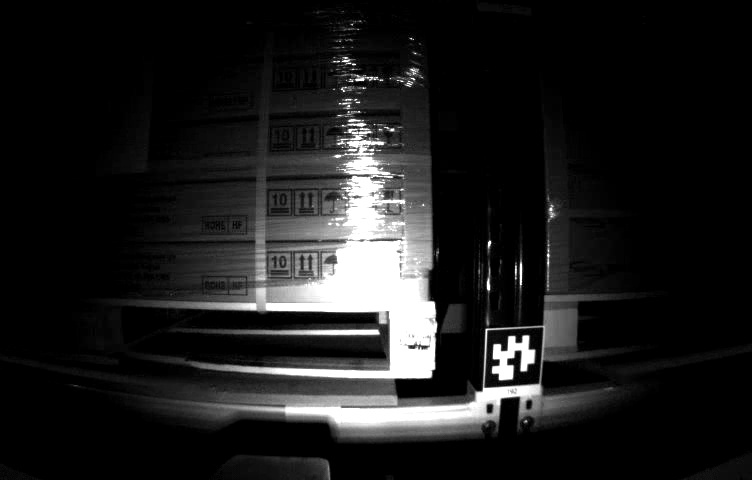True Barcode: (337, 244, 401, 298)
